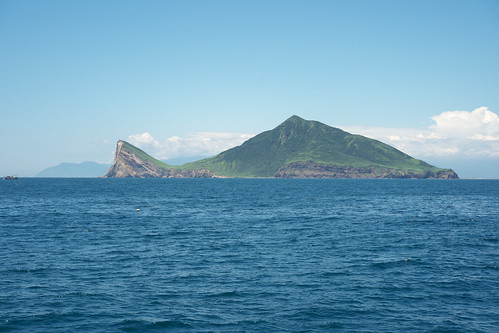turtleIslandLeft: (102, 111, 457, 177)
